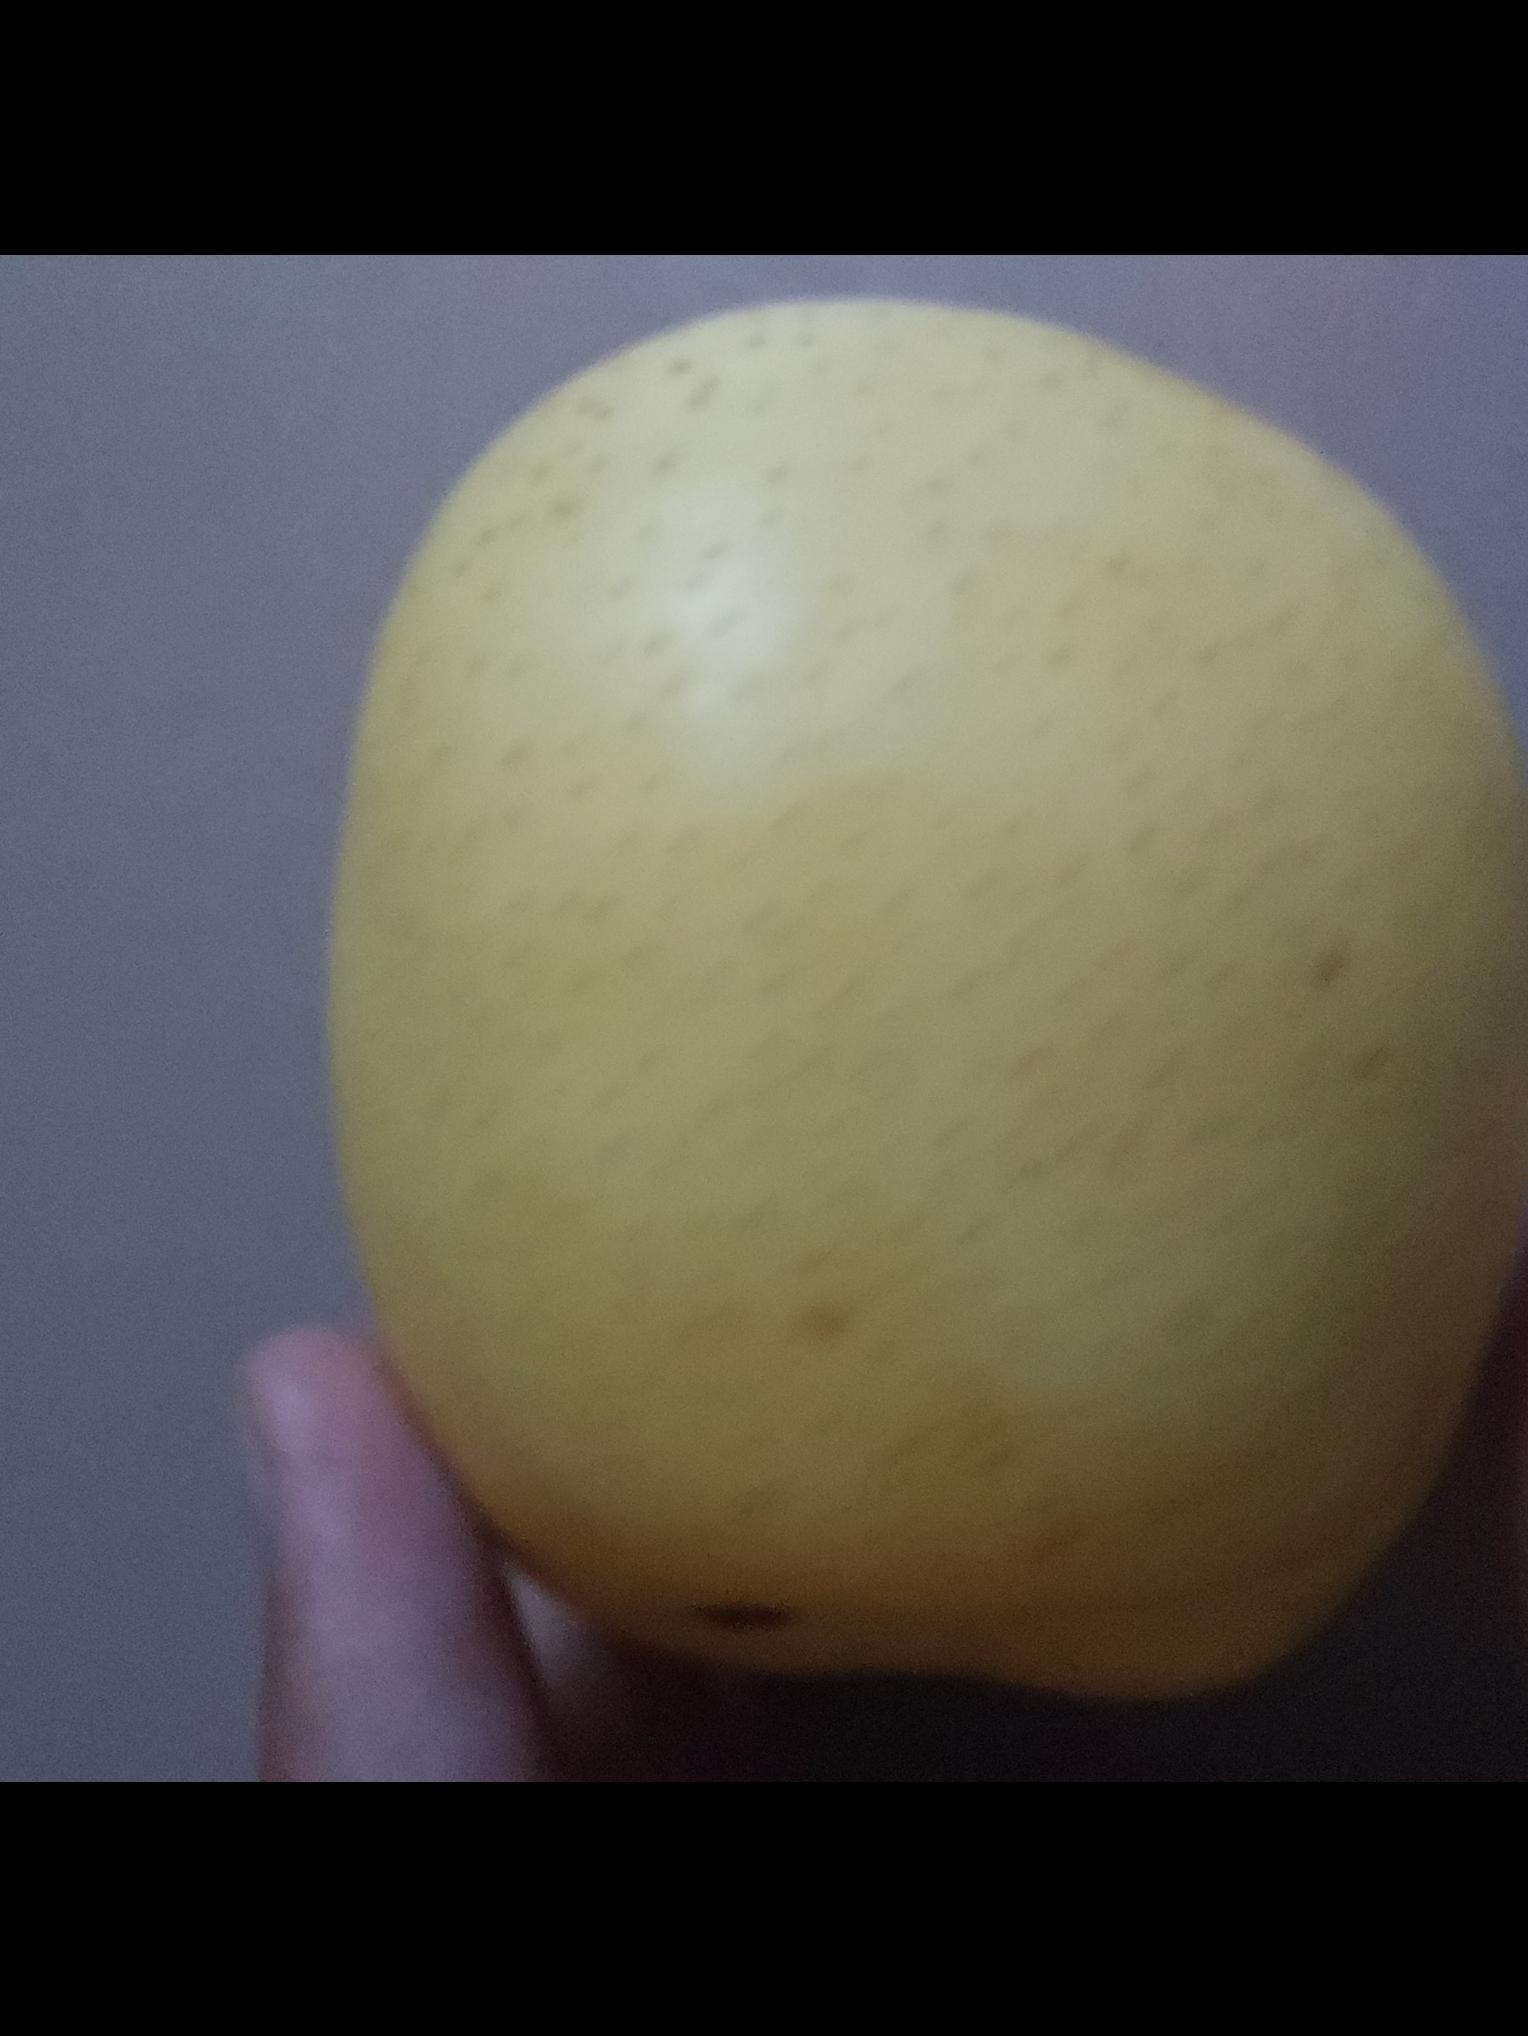Good Pear: (326, 286, 1528, 1714)
